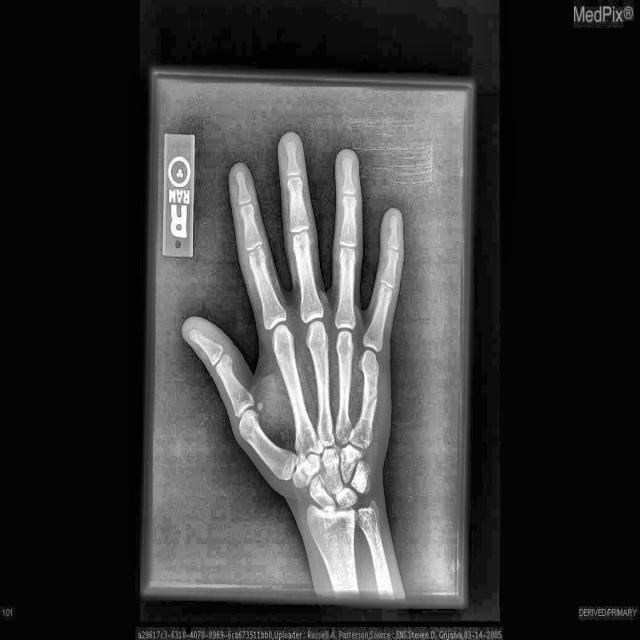fracture: (365, 392, 381, 413)
